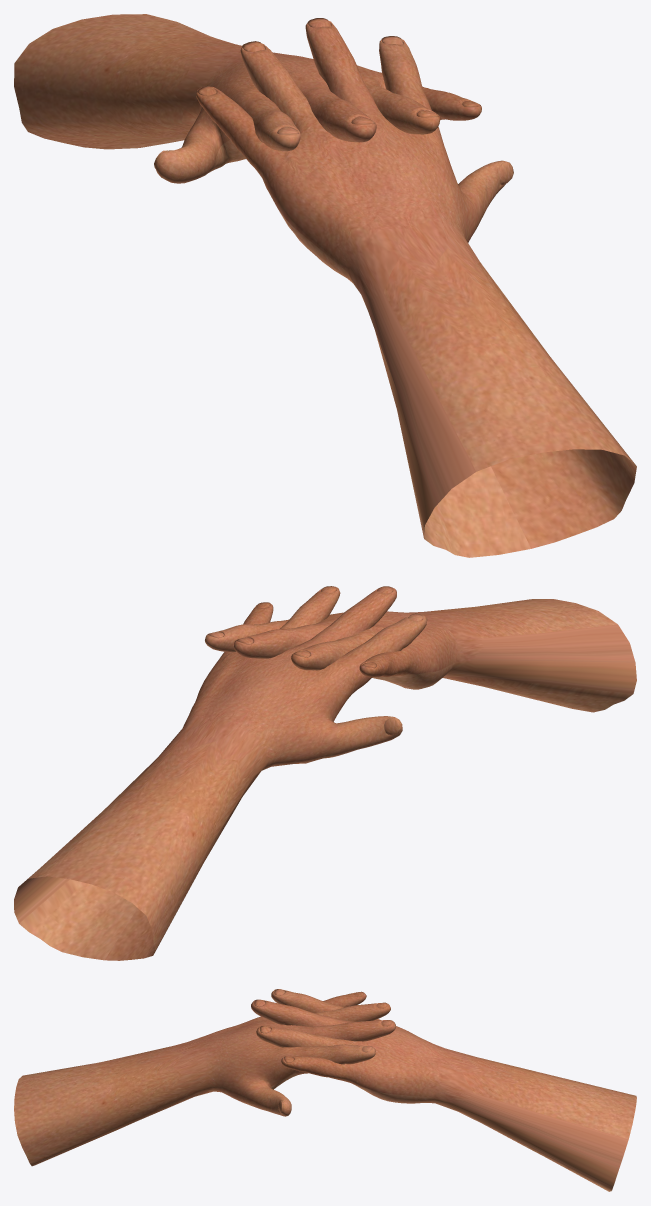
File: hands_000148.obj
The picture shows the model from 3 angles, top to bottom: view 1: azimuth 30°, elevation 25°; view 2: azimuth 150°, elevation 25°; view 3: azimuth 270°, elevation 25°; orthographic projection. The views are drawn at different scales.
Visible parts, largest first — view 1: hand.001_Mesh.001, hand_Mesh; view 2: hand_Mesh, hand.001_Mesh.001; view 3: hand_Mesh, hand.001_Mesh.001.
Part boxes in pixels (x1,y1,x2,y2): hand.001_Mesh.001: [196, 18, 636, 557]; hand_Mesh: [14, 14, 481, 183]; hand_Mesh: [14, 586, 427, 960]; hand.001_Mesh.001: [205, 599, 636, 712]; hand_Mesh: [251, 989, 636, 1191]; hand.001_Mesh.001: [14, 991, 395, 1166].
Bounding box in the file's own units: 1.58 × 1.4 × 4.92.
Materials: 1 (1 with a texture image).
